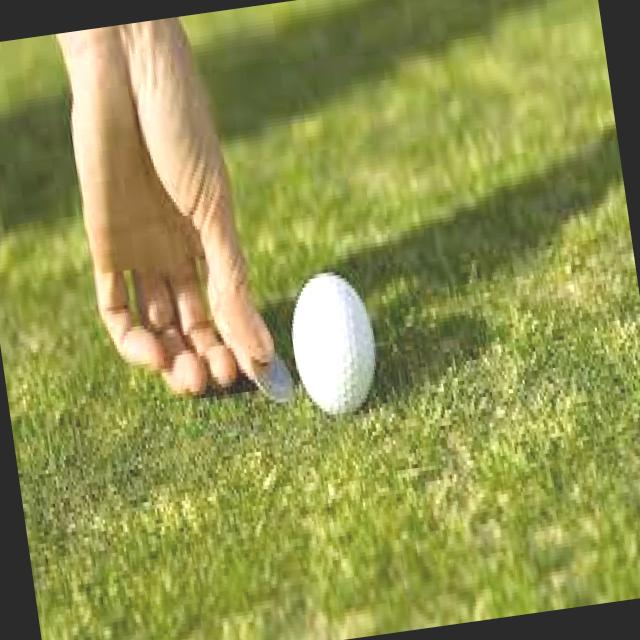ball: (278, 261, 389, 426)
